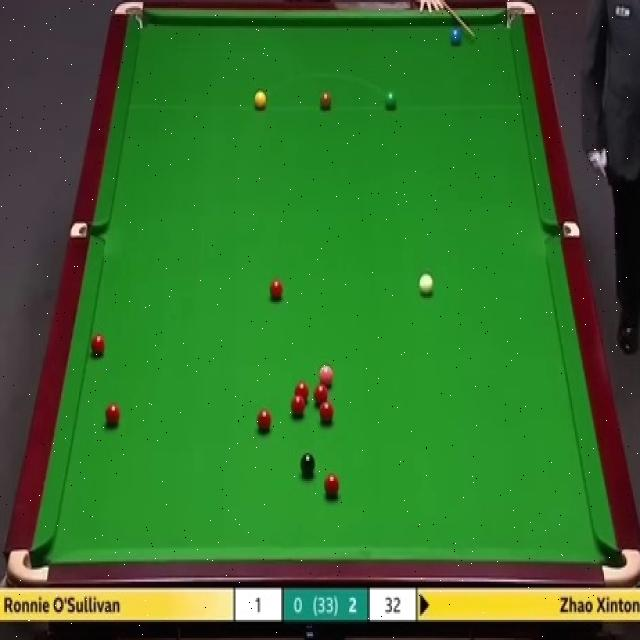black-ball: (300, 451, 317, 480)
blue-ball: (448, 22, 464, 47)
brown-ball: (319, 91, 333, 112)
green-ball: (384, 91, 398, 112)
pink-ball: (316, 363, 334, 387)
red-ball: (104, 402, 122, 429), (324, 475, 342, 499), (268, 278, 285, 302), (89, 333, 105, 358), (290, 395, 306, 419), (258, 408, 272, 434), (293, 381, 310, 402), (319, 401, 334, 424), (313, 385, 329, 404)
white-ball: (418, 271, 435, 297)
yellow-ball: (254, 90, 267, 111)
